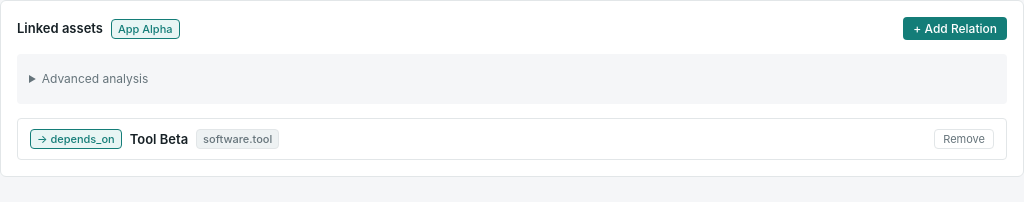
Test: Relations and Impact Explorer Workflow UI (P5-07) › Flow 4 (Remove Relation with Confirmation): prompts confirmation and removes relation
Expected: the element with test id "neighbors-list-container" is shown, [17, 118, 1007, 160]
Expected: the button "Tool Beta" is shown, [130, 131, 188, 147]
// Click Remove button
Click the button "Remove": click(964, 139) [934, 129, 994, 149]
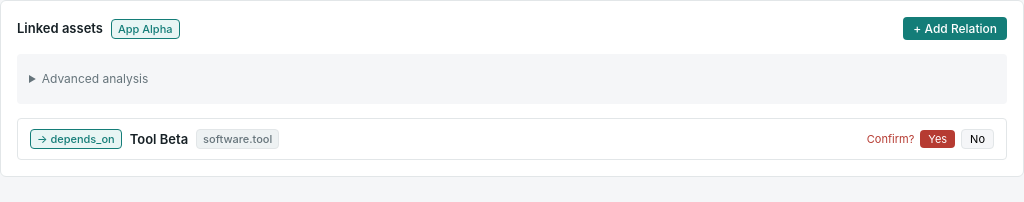
Expected: the element with test id "remove-confirm-box" is shown, [867, 129, 994, 149]
// Confirm removal
Click the button with test id "confirm-remove-relation-button": click(938, 139) [920, 130, 955, 148]
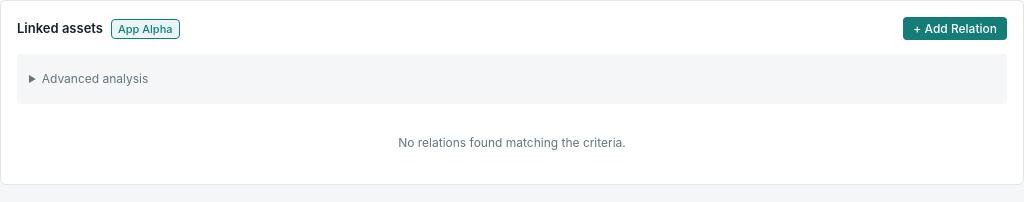
Expected: the button "Tool Beta" is gone
